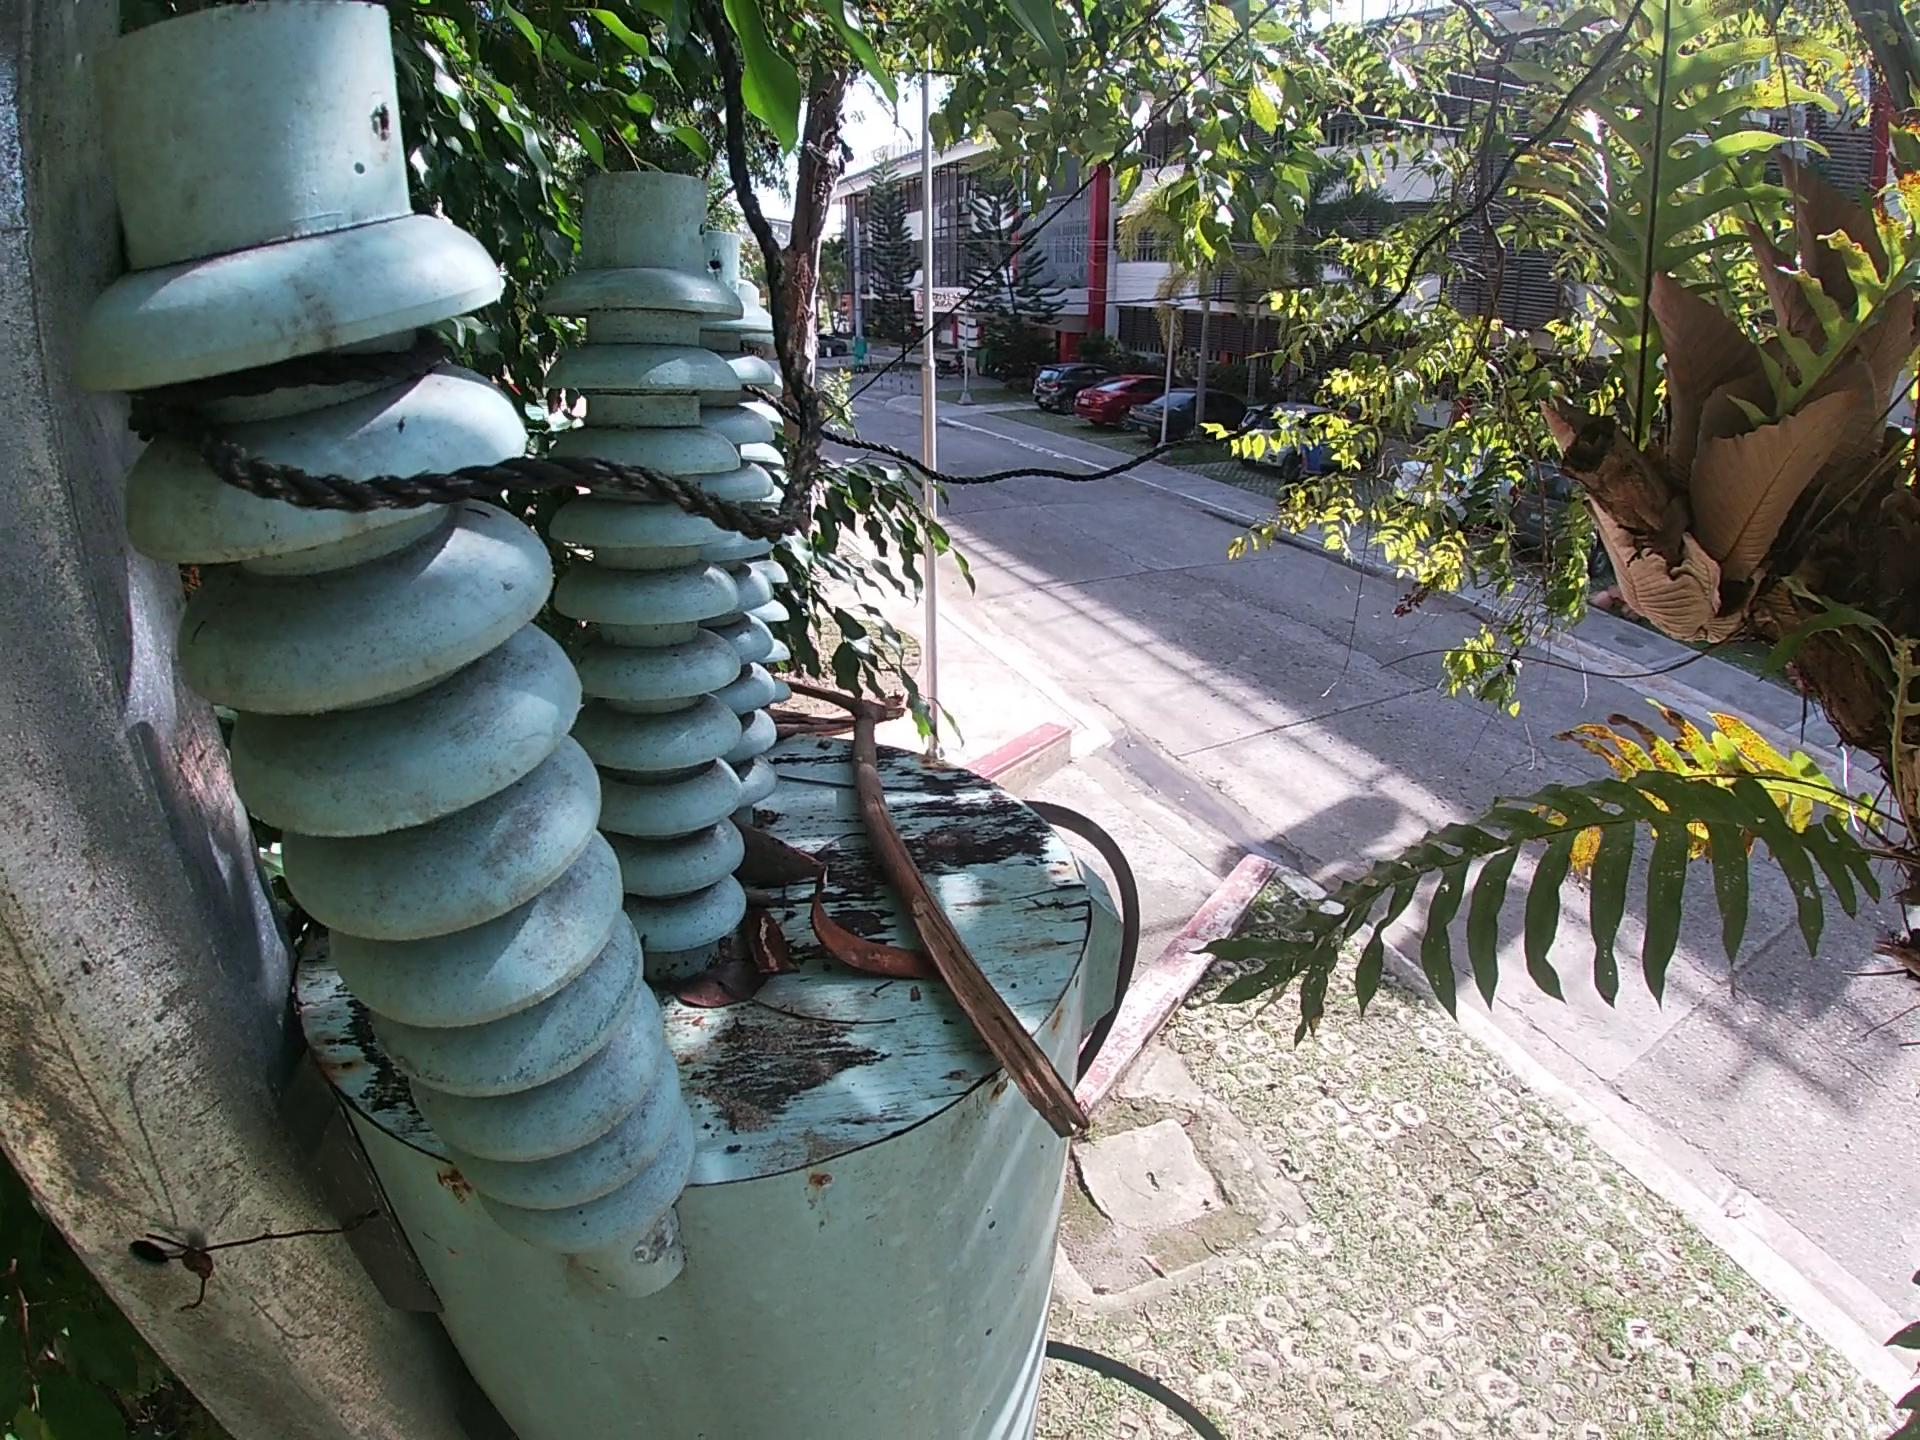leaf: (665, 959, 763, 1019)
mahogany fruit: (804, 867, 937, 983), (724, 818, 835, 888), (744, 905, 794, 979)
tree branch: (785, 679, 1098, 1150), (760, 703, 857, 743)
